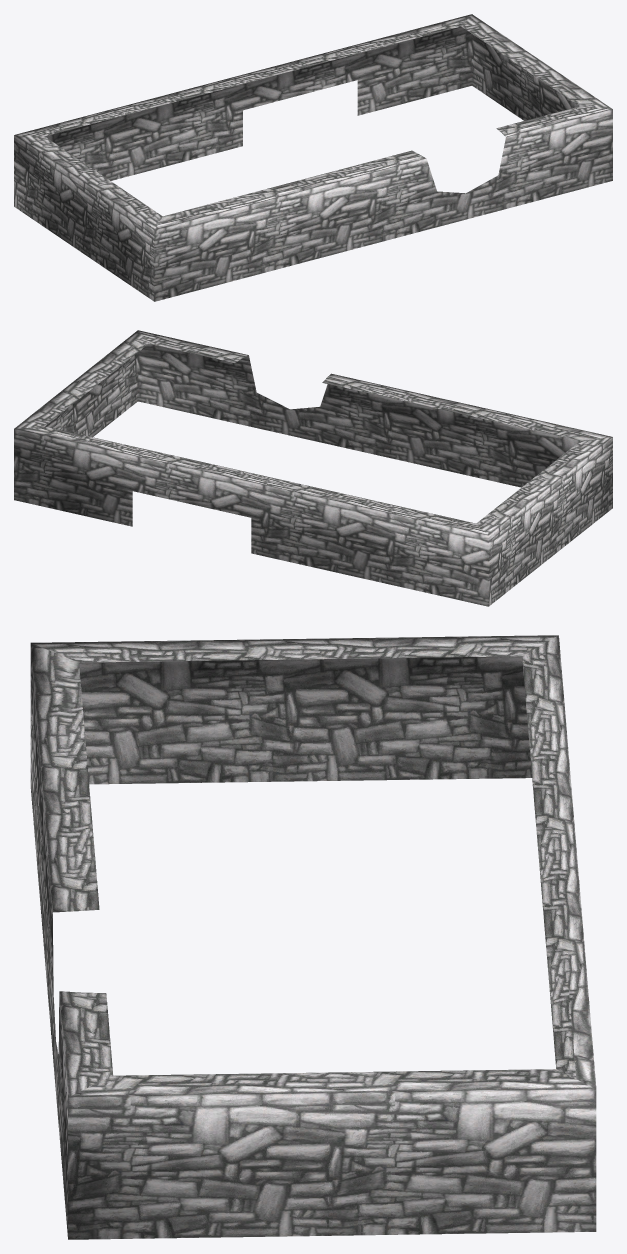
The model's file is HTOWN01_GREENDRAGBASE.fbx.
The picture shows the model from 3 angles, top to bottom: view 1: azimuth 30°, elevation 25°; view 2: azimuth 150°, elevation 25°; view 3: azimuth 270°, elevation 25°; orthographic projection. The views are drawn at different scales.
Visible parts, largest first — view 1: HTOWN01_GREENDRAGBASE; view 2: HTOWN01_GREENDRAGBASE; view 3: HTOWN01_GREENDRAGBASE.
Part boxes in pixels (x1=…): HTOWN01_GREENDRAGBASE: x1=14, y1=14, x2=612, y2=301; HTOWN01_GREENDRAGBASE: x1=14, y1=330, x2=612, y2=606; HTOWN01_GREENDRAGBASE: x1=30, y1=635, x2=596, y2=1239.
Size of the model in its own units: 93612 by 13460 by 48449.
1 material, 1 textured.
